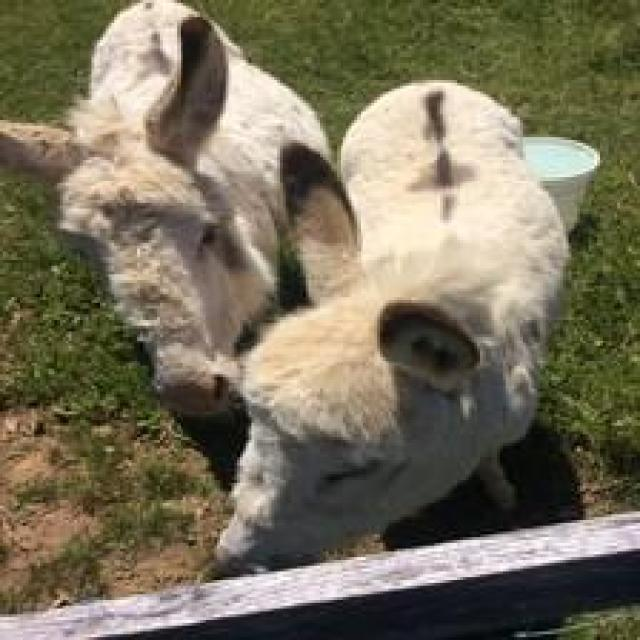Donkey: (208, 77, 572, 574), (0, 0, 357, 420)
